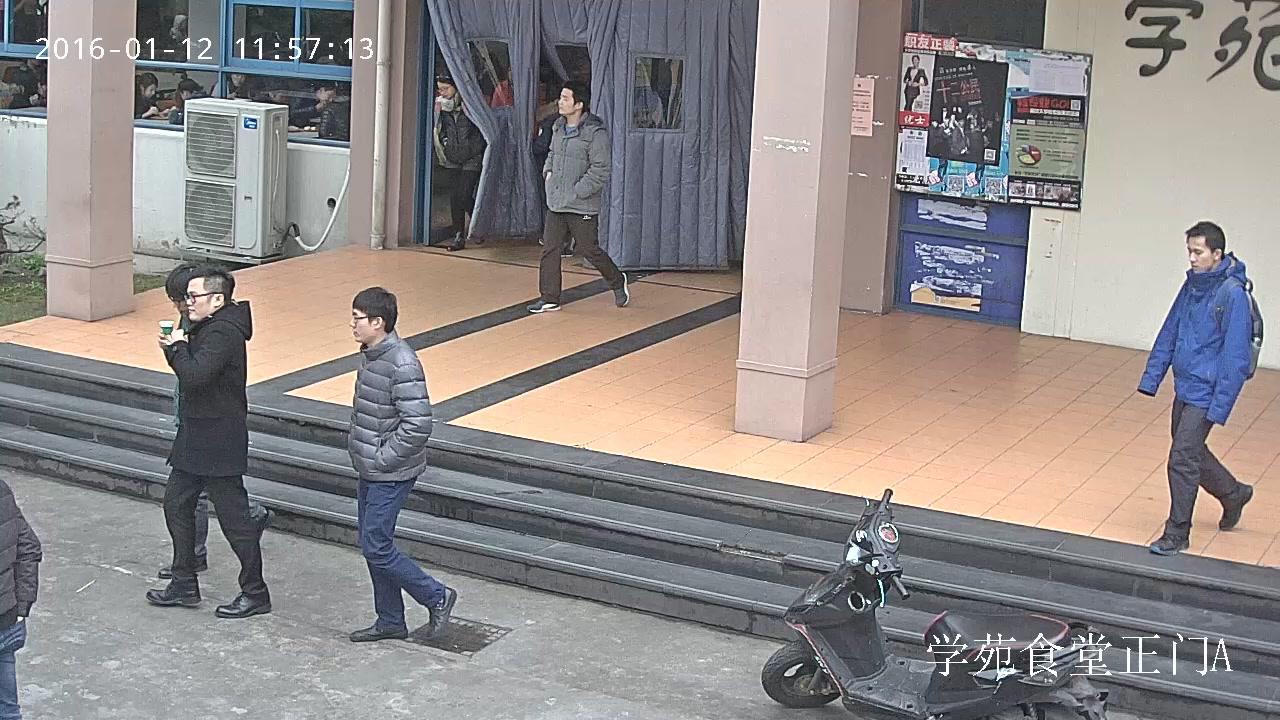person: (141, 264, 274, 617), (1134, 222, 1263, 558), (342, 284, 457, 641), (153, 262, 275, 580), (524, 80, 631, 312), (427, 69, 487, 251), (0, 477, 41, 720), (286, 81, 338, 131), (318, 82, 351, 140), (12, 59, 46, 106), (903, 54, 929, 112), (210, 69, 255, 99), (132, 72, 160, 118)
